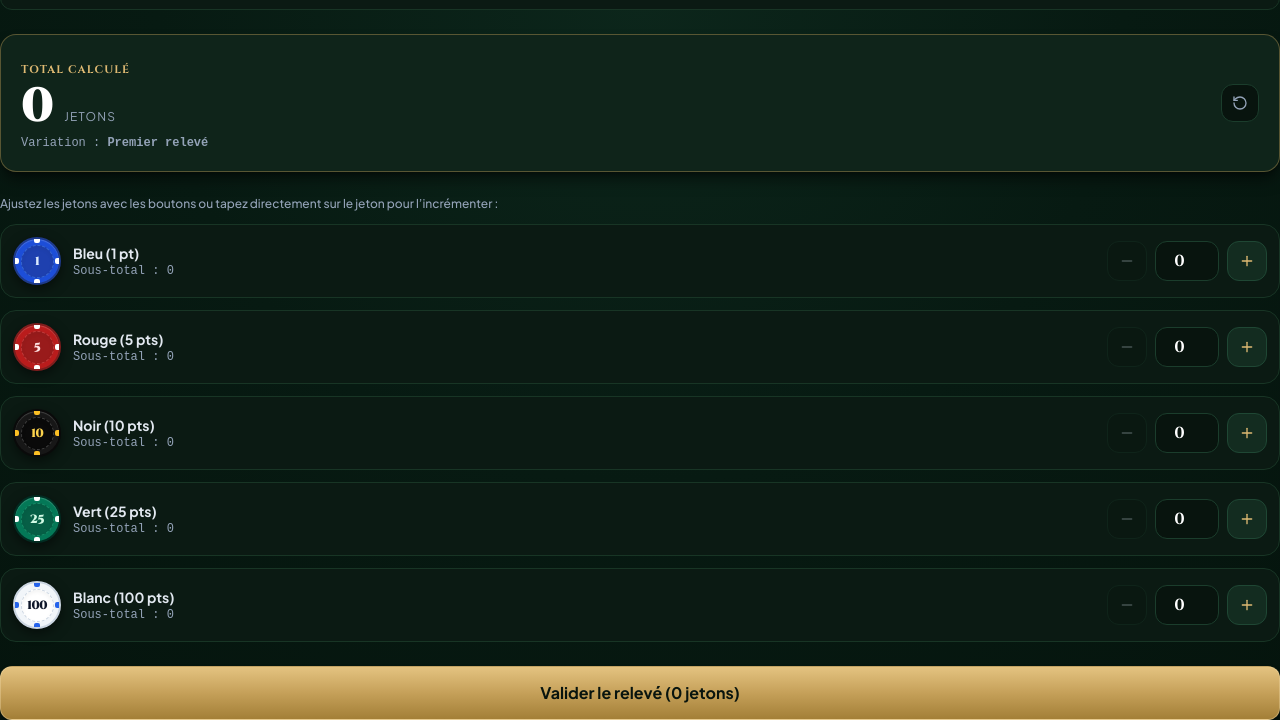
Test: ChipEntryForm - Saisie des jetons et validation › ouvre la modale de confirmation avant d’enregistrer le relevé
(page scrolled)
Note: Clic sur Valider
Click the button "Valider le relevé (0 jetons)": (640, 693) [0,666,1279,719]
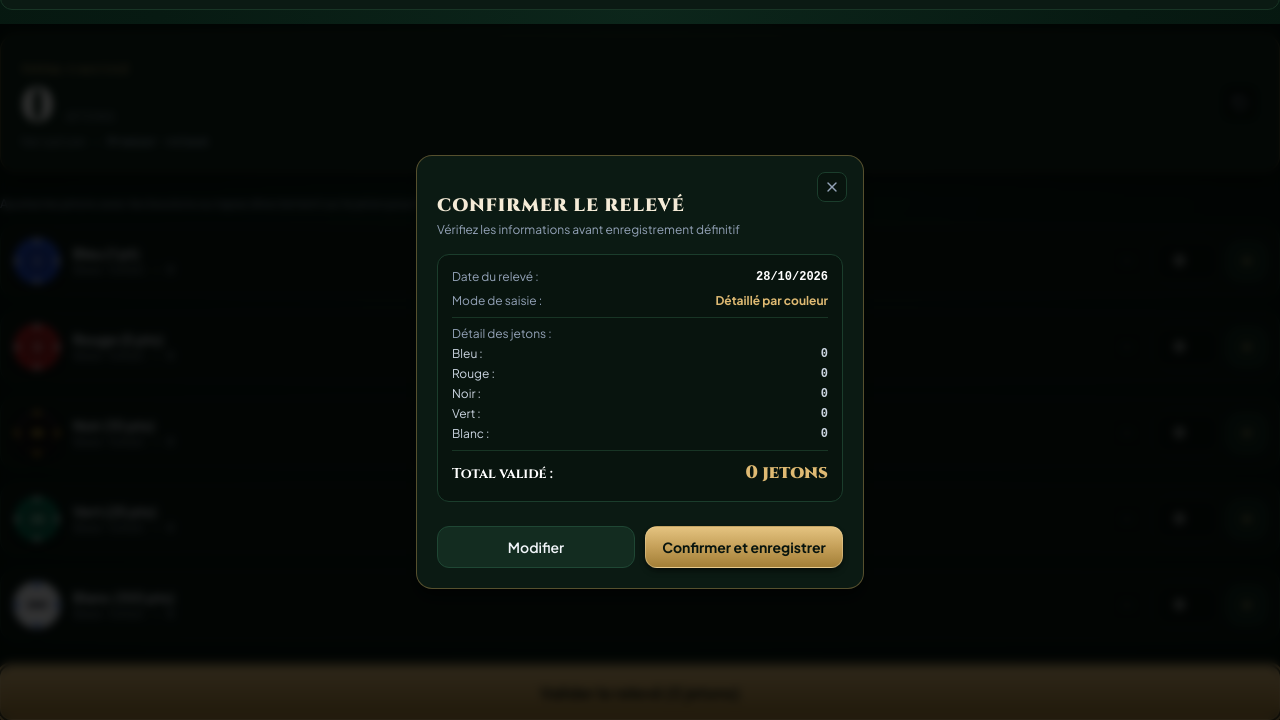
Expected: the text "Confirmer le relevé" is shown, [437,193,685,218]
Expected: the button "Confirmer et enregistrer" is shown, [645,526,843,568]
Expected: the button "Modifier" is shown, [437,526,635,568]
